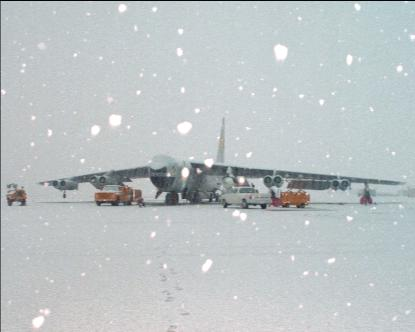B2: (36, 117, 406, 204)
